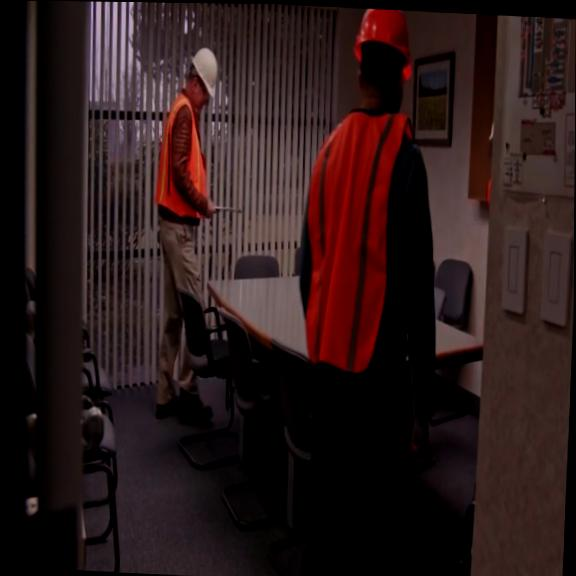safety_vest: (299, 104, 418, 377), (153, 86, 212, 228)
